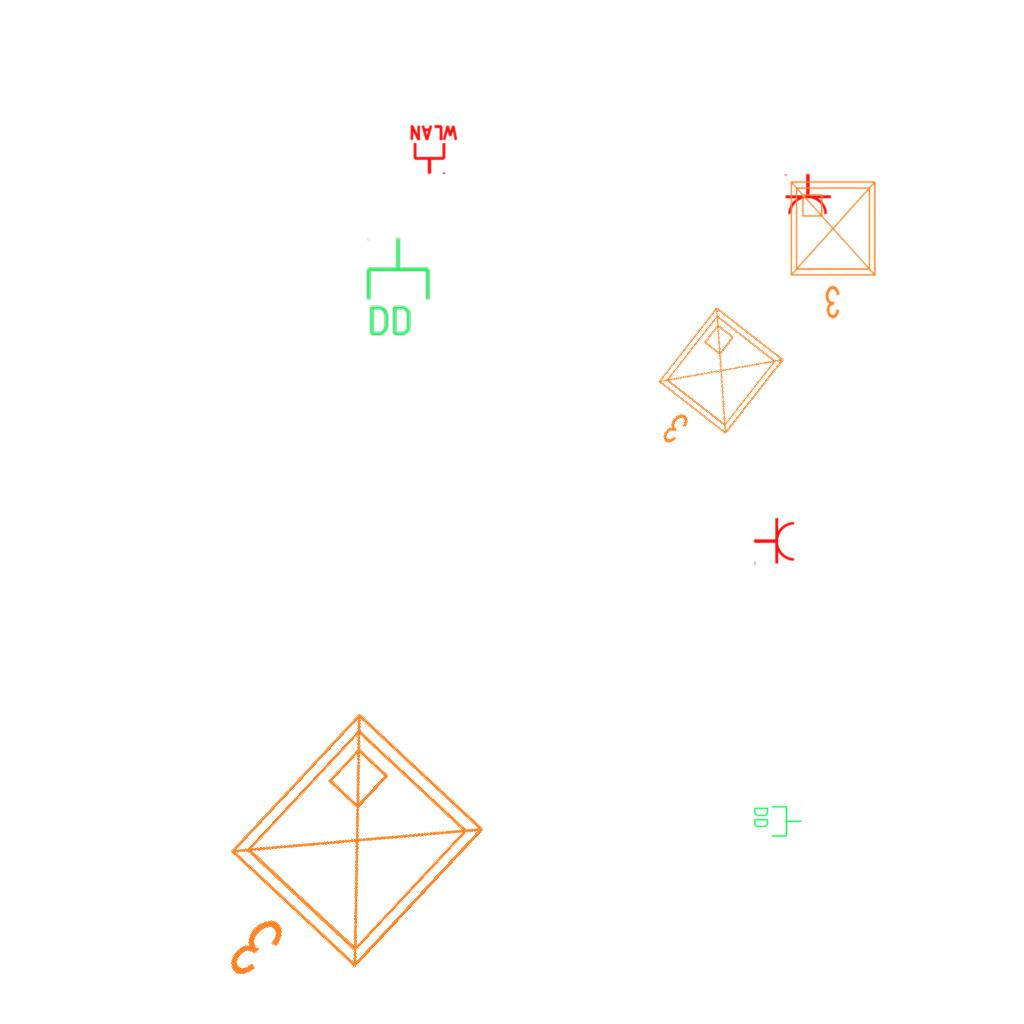Datenanschluss_zweifach: (363, 236, 432, 339), (752, 804, 803, 838)
Einbaudownlights_LED_Konferenzraeume: (153, 692, 511, 1024), (622, 296, 798, 480), (783, 174, 887, 324)
Schukosteckdose_einfach: (782, 173, 832, 216), (753, 517, 796, 567)
WLAN: (408, 124, 460, 176)
